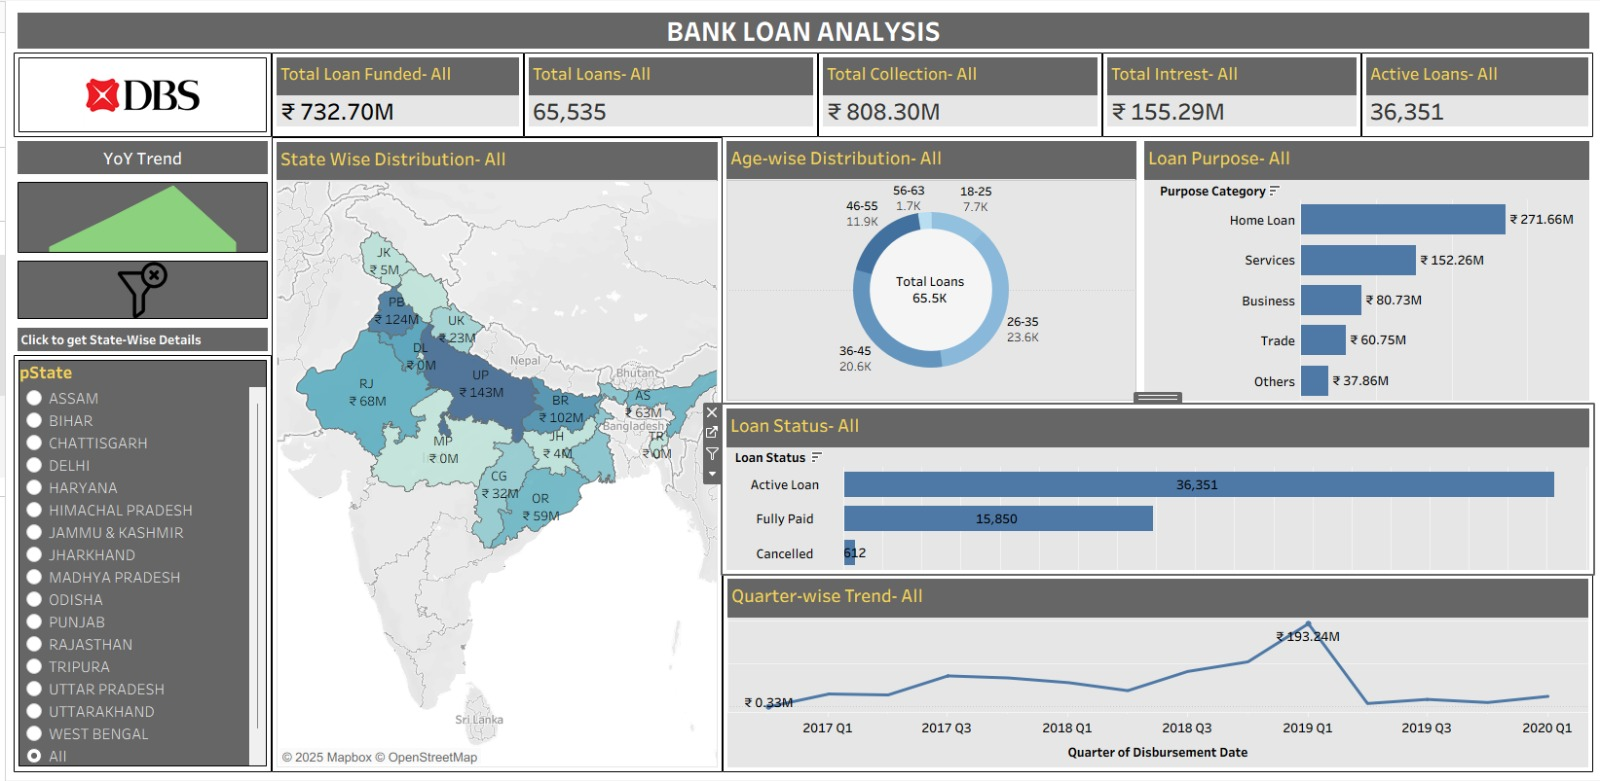

The dashboard page shown, as its layout file describes it:
{"tool":"tableau","page":{"name":"BANK LOAN ANALYSIS","canvas":[1000,1000],"units":"permille","ordinal":0},"visuals":[{"type":"title","box":[4.8,10,990.3,56.2]},{"type":"image","param":"Image/images.png","box":[5.4,67.4,160.4,106.1]},{"type":"worksheet","title":"Total Loan Funded","mark":"Automatic","box":[167,67.4,157.1,98.6]},{"type":"worksheet","title":"Total Loans","mark":"Automatic","box":[325.3,67.4,183.2,98.6]},{"type":"worksheet","title":"Total Collection","mark":"Automatic","box":[509.7,67.4,177.1,98.6]},{"type":"worksheet","title":"Total Intrest","mark":"Automatic","box":[688,67.4,161.2,98.6]},{"type":"worksheet","title":"Active Loans","mark":"Automatic","box":[850.4,67.4,144.1,98.6]},{"type":"dashboard-object","box":[4.8,174.8,161.6,139.8]},{"type":"worksheet","title":"Age-wise Distribution","mark":"Pie","rows":["Calculation_1060597754443976706","Calculation_1060597754443976706"],"box":[449.3,174.8,258.9,343.3]},{"type":"worksheet","title":"Loan Purpose","mark":"Automatic","rows":["Purpose Category"],"cols":["Calculation_1412722950031159298"],"box":[708.2,174.8,287,343.3]},{"type":"worksheet","title":"State Wise Distribution","mark":"Automatic","box":[167,176,281.6,812.7]},{"type":"text","box":[4.8,314.6,161.6,51.2]},{"type":"parameter","param":"[Parameters].[Parameter 1]","box":[5.4,367,160.4,531.8]},{"type":"worksheet","title":"Loan Status","mark":"Automatic","rows":["Loan Status"],"cols":["Calculation_1412722950031302659"],"box":[449.3,518.1,545.9,217.2]},{"type":"worksheet","title":"Quarter-wise Trend","mark":"Automatic","rows":["Calculation_1412722950031159298"],"cols":["Disbursement Date"],"box":[449.9,736.6,544.7,252.2]}]}

Visuals, with their boxes on the dashboard's canvas, which has no fixed pixel size, in thousandths of its width and height (x1, y1, x2, y2). These are canvas units, not pixel positions in the 1600x781 screenshot, which may show the page scaled, cropped or inside an application window:
title: (5, 10, 995, 66)
image: (5, 67, 166, 174)
"Total Loan Funded" worksheet: (167, 67, 324, 166)
"Total Loans" worksheet: (325, 67, 508, 166)
"Total Collection" worksheet: (510, 67, 687, 166)
"Total Intrest" worksheet: (688, 67, 849, 166)
"Active Loans" worksheet: (850, 67, 994, 166)
dashboard-object: (5, 175, 166, 315)
"Age-wise Distribution" worksheet (Pie marks): (449, 175, 708, 518)
"Loan Purpose" worksheet: (708, 175, 995, 518)
"State Wise Distribution" worksheet: (167, 176, 449, 989)
text: (5, 315, 166, 366)
parameter: (5, 367, 166, 899)
"Loan Status" worksheet: (449, 518, 995, 735)
"Quarter-wise Trend" worksheet: (450, 737, 995, 989)
